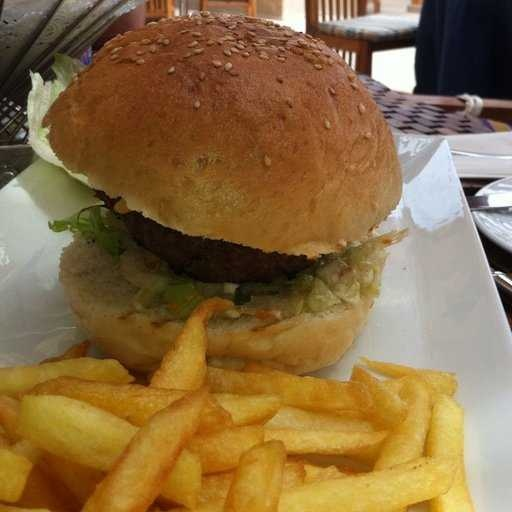hamburger: (29, 18, 412, 371)
